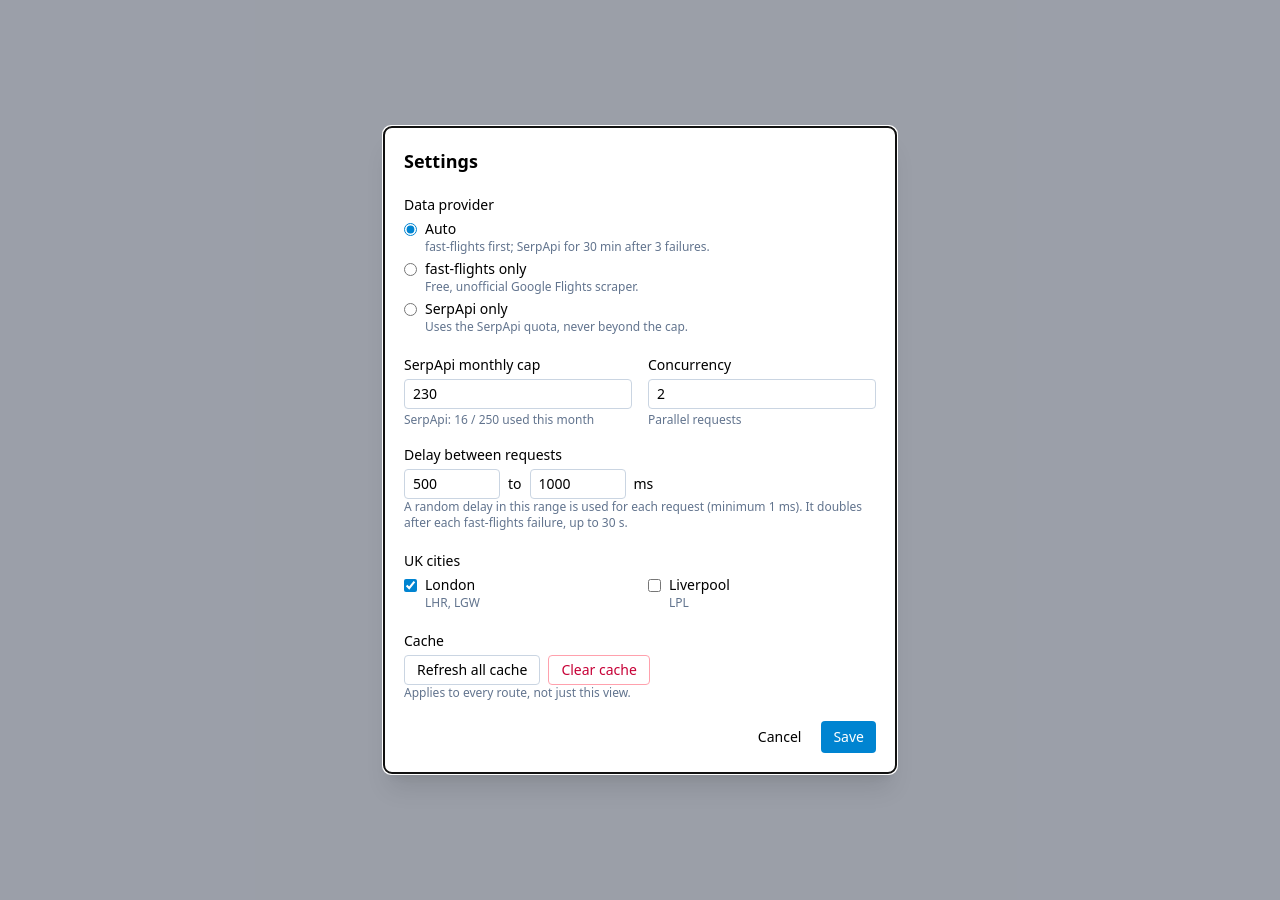
SettingsDialog › blocks saving an invalid delay or no cities
Replace the text in the number field named "Minimum delay (ms)" with "0". click: (452, 484)
box: left=404, top=469, right=500, bottom=499
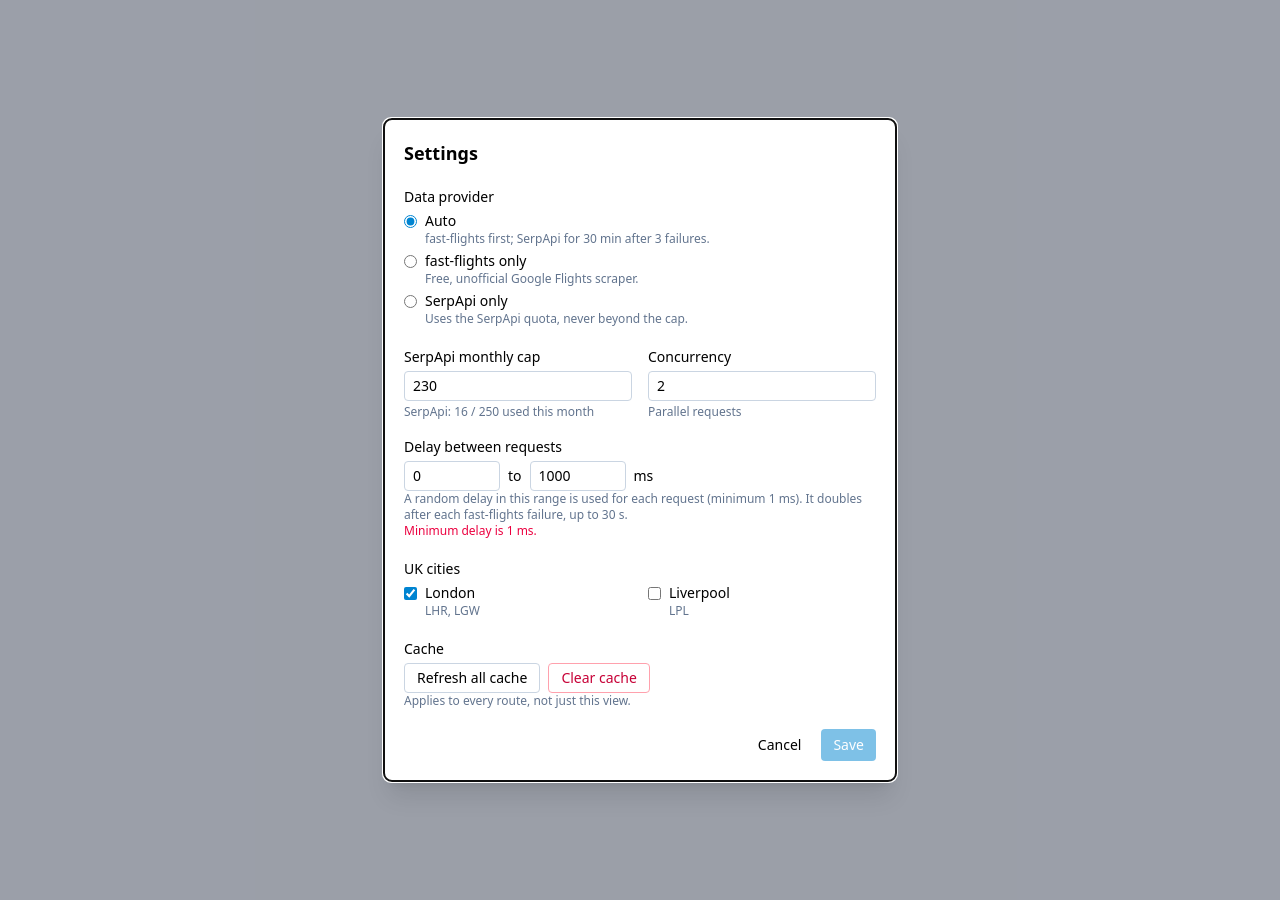
Result: the text "Minimum delay is 1 ms." is shown at left=404, top=522, right=537, bottom=539
Result: the button "Save" is disabled at left=821, top=729, right=876, bottom=761
Replace the text in the number field named "Minimum delay (ms)" with "500". click: (452, 476)
box: left=404, top=461, right=500, bottom=491
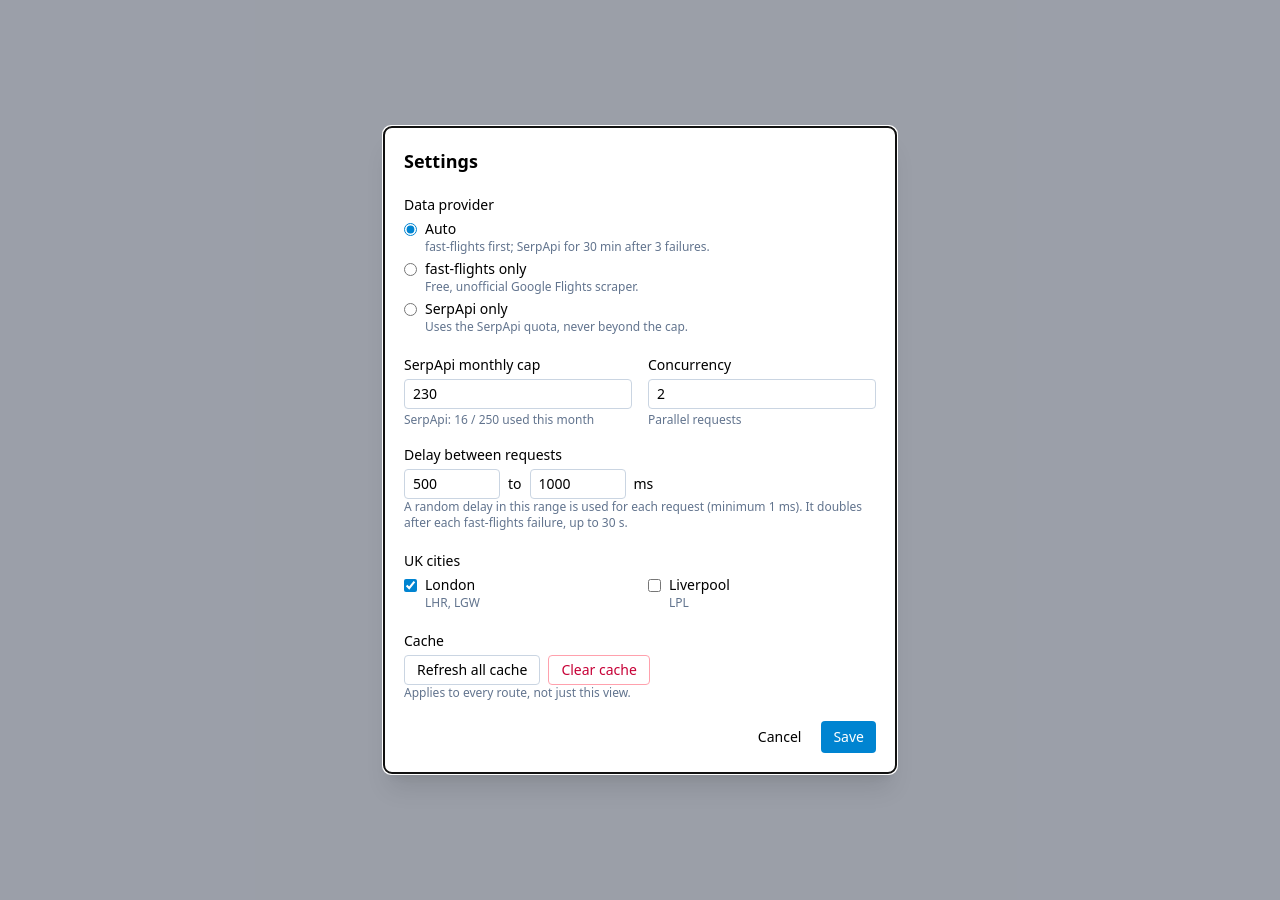
Click the checkbox labelled "London LHR, LGW". click: (410, 586)
box: left=404, top=579, right=417, bottom=592
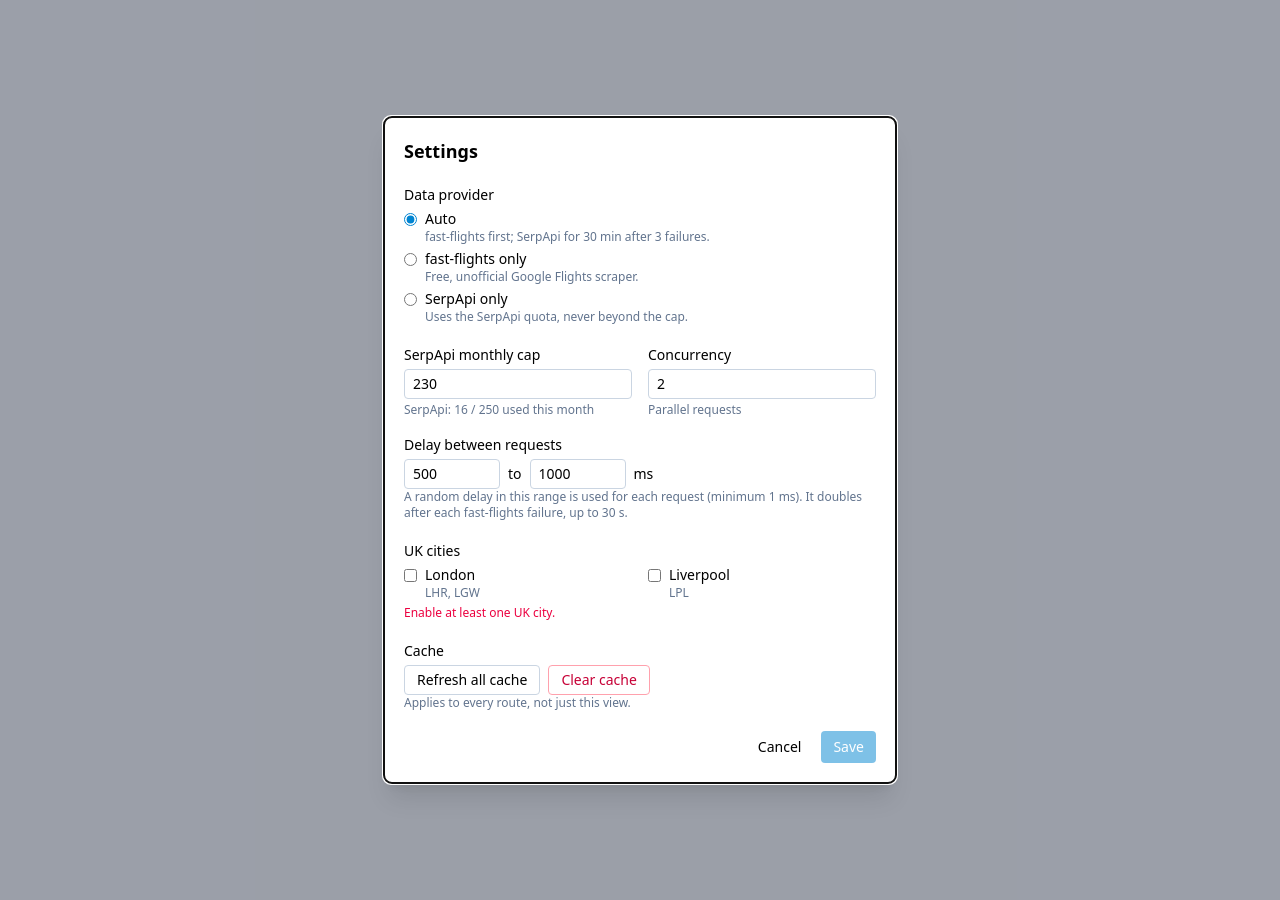
Result: the text "Enable at least one UK city." is shown at left=404, top=604, right=555, bottom=621
Result: the button "Save" is disabled at left=821, top=731, right=876, bottom=763
